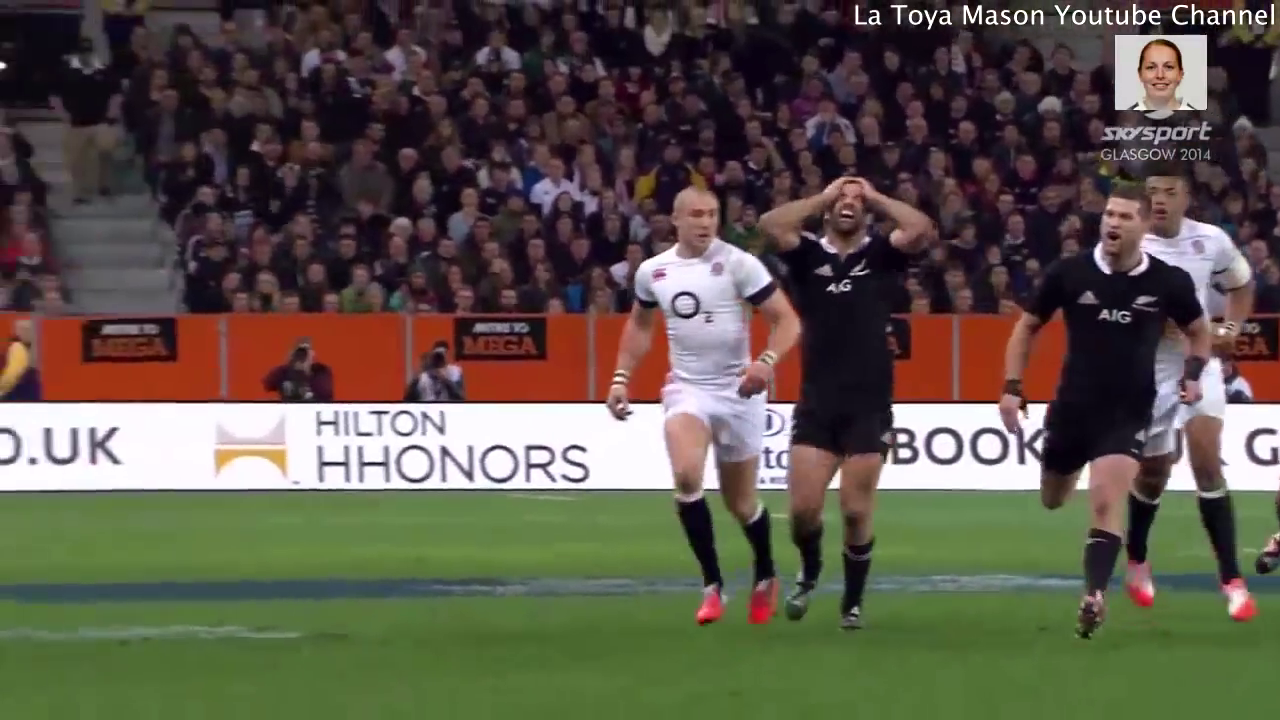player: (999, 181, 1209, 655), (602, 182, 803, 623), (763, 169, 937, 620), (1134, 183, 1269, 615)
